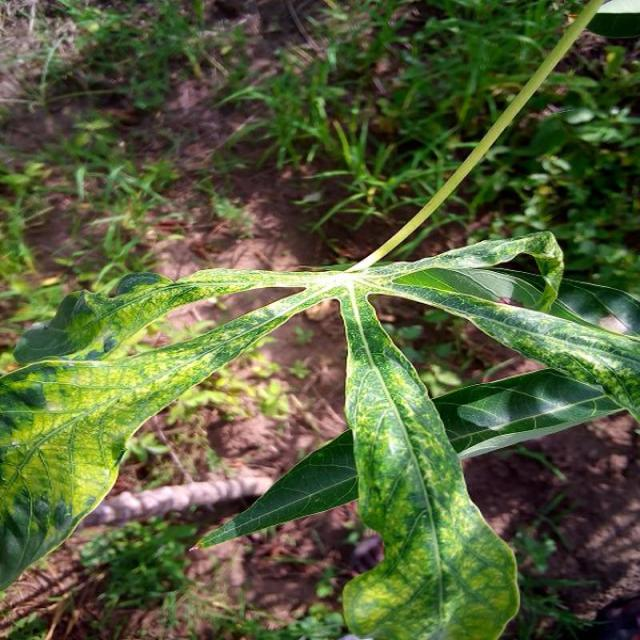cassava leaf: (2, 3, 639, 637), (340, 285, 522, 638)
